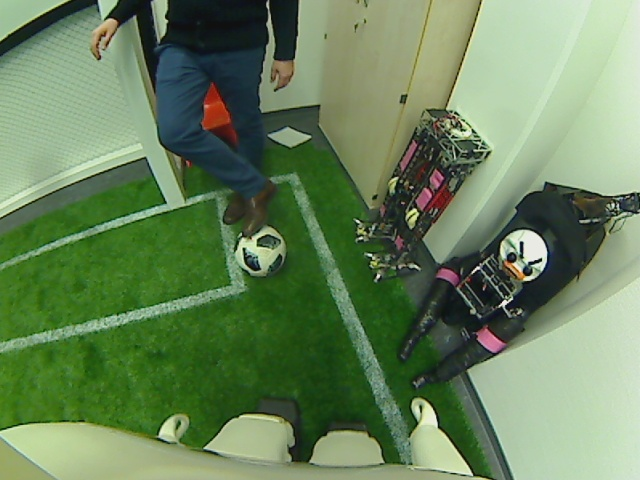ball: (234, 224, 288, 277)
